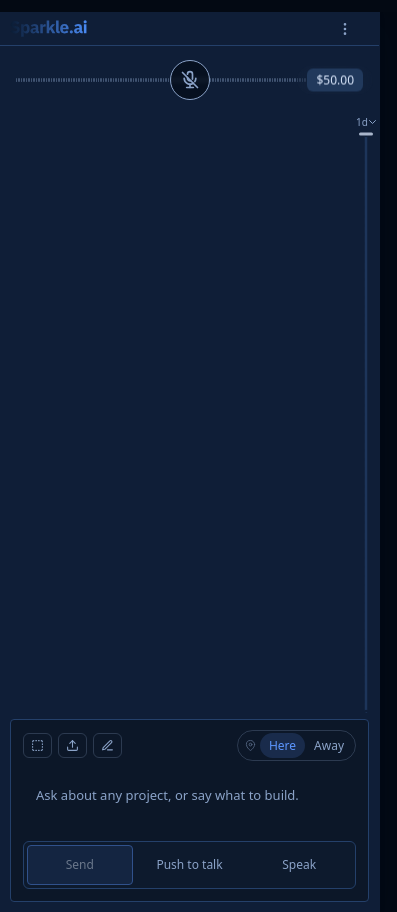
the concierge reply linter is mounted › renders the LINTER'S text, not the model's
The image size is (397, 912).
Type "what's the fleet doing?" into the text box at (190, 804), box x1=23 y1=775 x2=356 y2=833
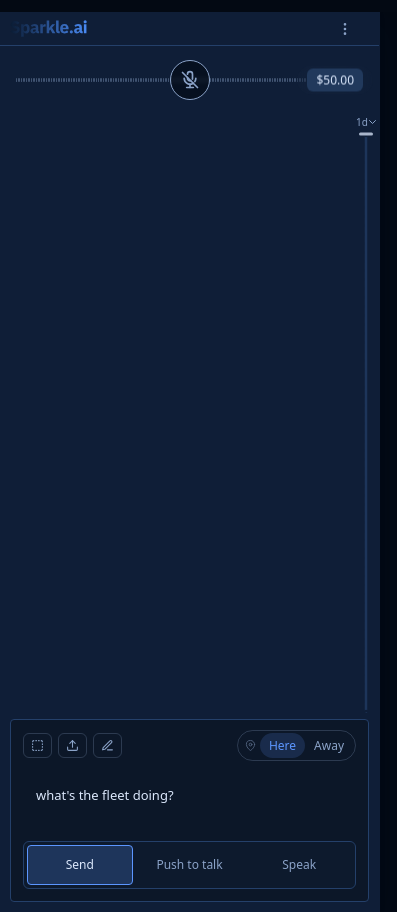
Click the button "Send" at (80, 865), box x1=27 y1=845 x2=133 y2=885
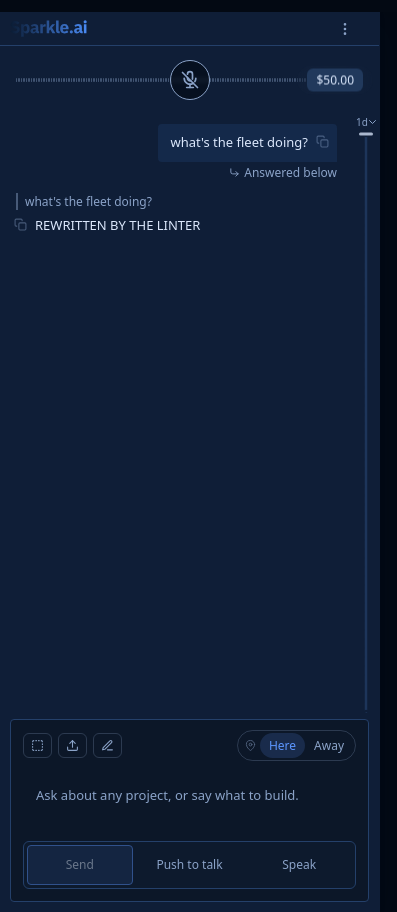
Check: the element with test id "concierge-thread" shows "REWRITTEN BY THE LINTER", box x1=35 y1=216 x2=200 y2=234
